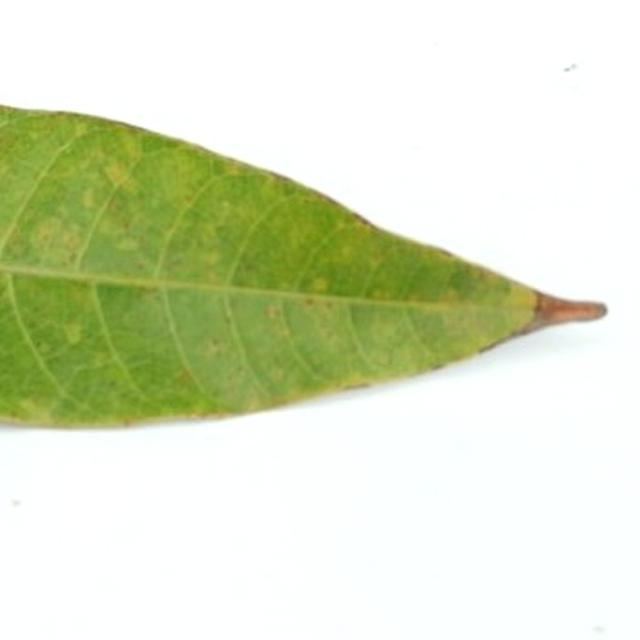Mango: (0, 107, 602, 426)
Powdery_Mildew: (293, 301, 351, 353), (25, 214, 85, 264), (15, 394, 56, 419), (102, 160, 135, 190), (307, 272, 341, 297), (4, 230, 32, 259), (350, 211, 378, 231), (61, 322, 83, 346), (115, 235, 140, 252), (242, 393, 262, 412), (82, 187, 99, 209), (371, 349, 391, 367), (203, 249, 222, 267), (106, 198, 124, 216), (90, 353, 110, 369), (342, 379, 370, 390), (265, 304, 283, 321), (438, 247, 459, 260), (142, 288, 162, 301), (441, 289, 459, 303), (204, 270, 221, 284), (340, 244, 355, 259), (74, 122, 89, 137), (223, 305, 235, 323), (209, 337, 223, 352), (270, 367, 285, 381), (176, 369, 192, 382), (4, 406, 21, 418), (406, 294, 423, 304), (183, 194, 196, 207), (370, 289, 385, 300), (28, 130, 42, 141), (38, 343, 50, 355), (220, 200, 233, 211), (278, 281, 291, 291), (121, 418, 134, 427), (304, 297, 315, 306)
